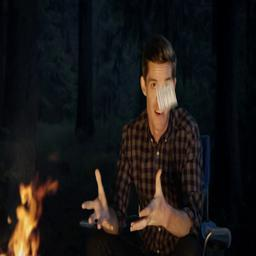fire: (7, 180, 56, 256)
